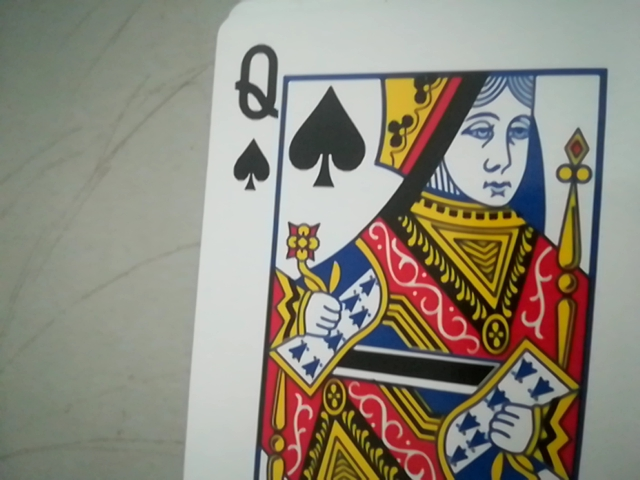ht q: (218, 28, 292, 199)
